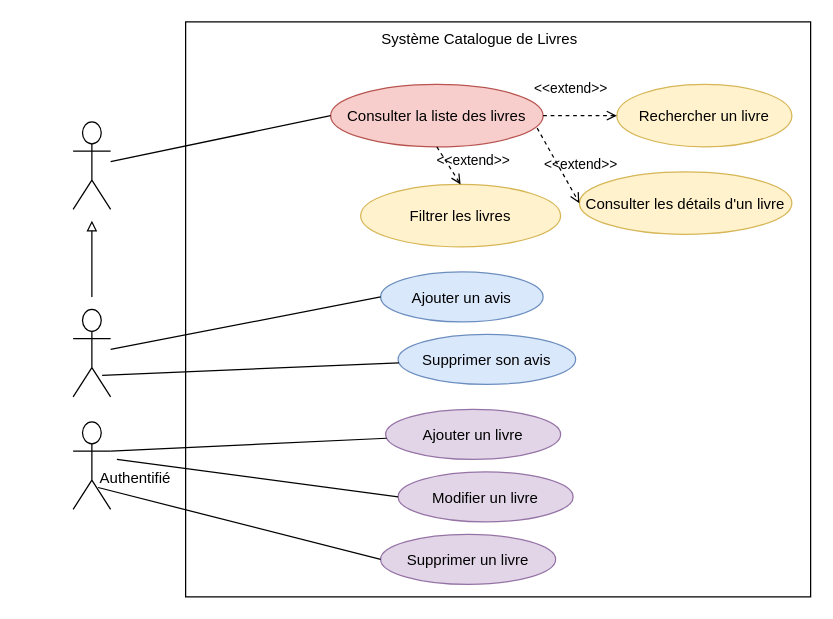
This 833x619 diagram has some shape labels left out. The shapes that lost their labels are listed below. From the top down, each one's centre as x and y in pixels, then its label:
At (x=91, y=165): "Visiteur".
At (x=91, y=352): "Utilisateur Authentifié".
At (x=91, y=465): "Administrateur".
